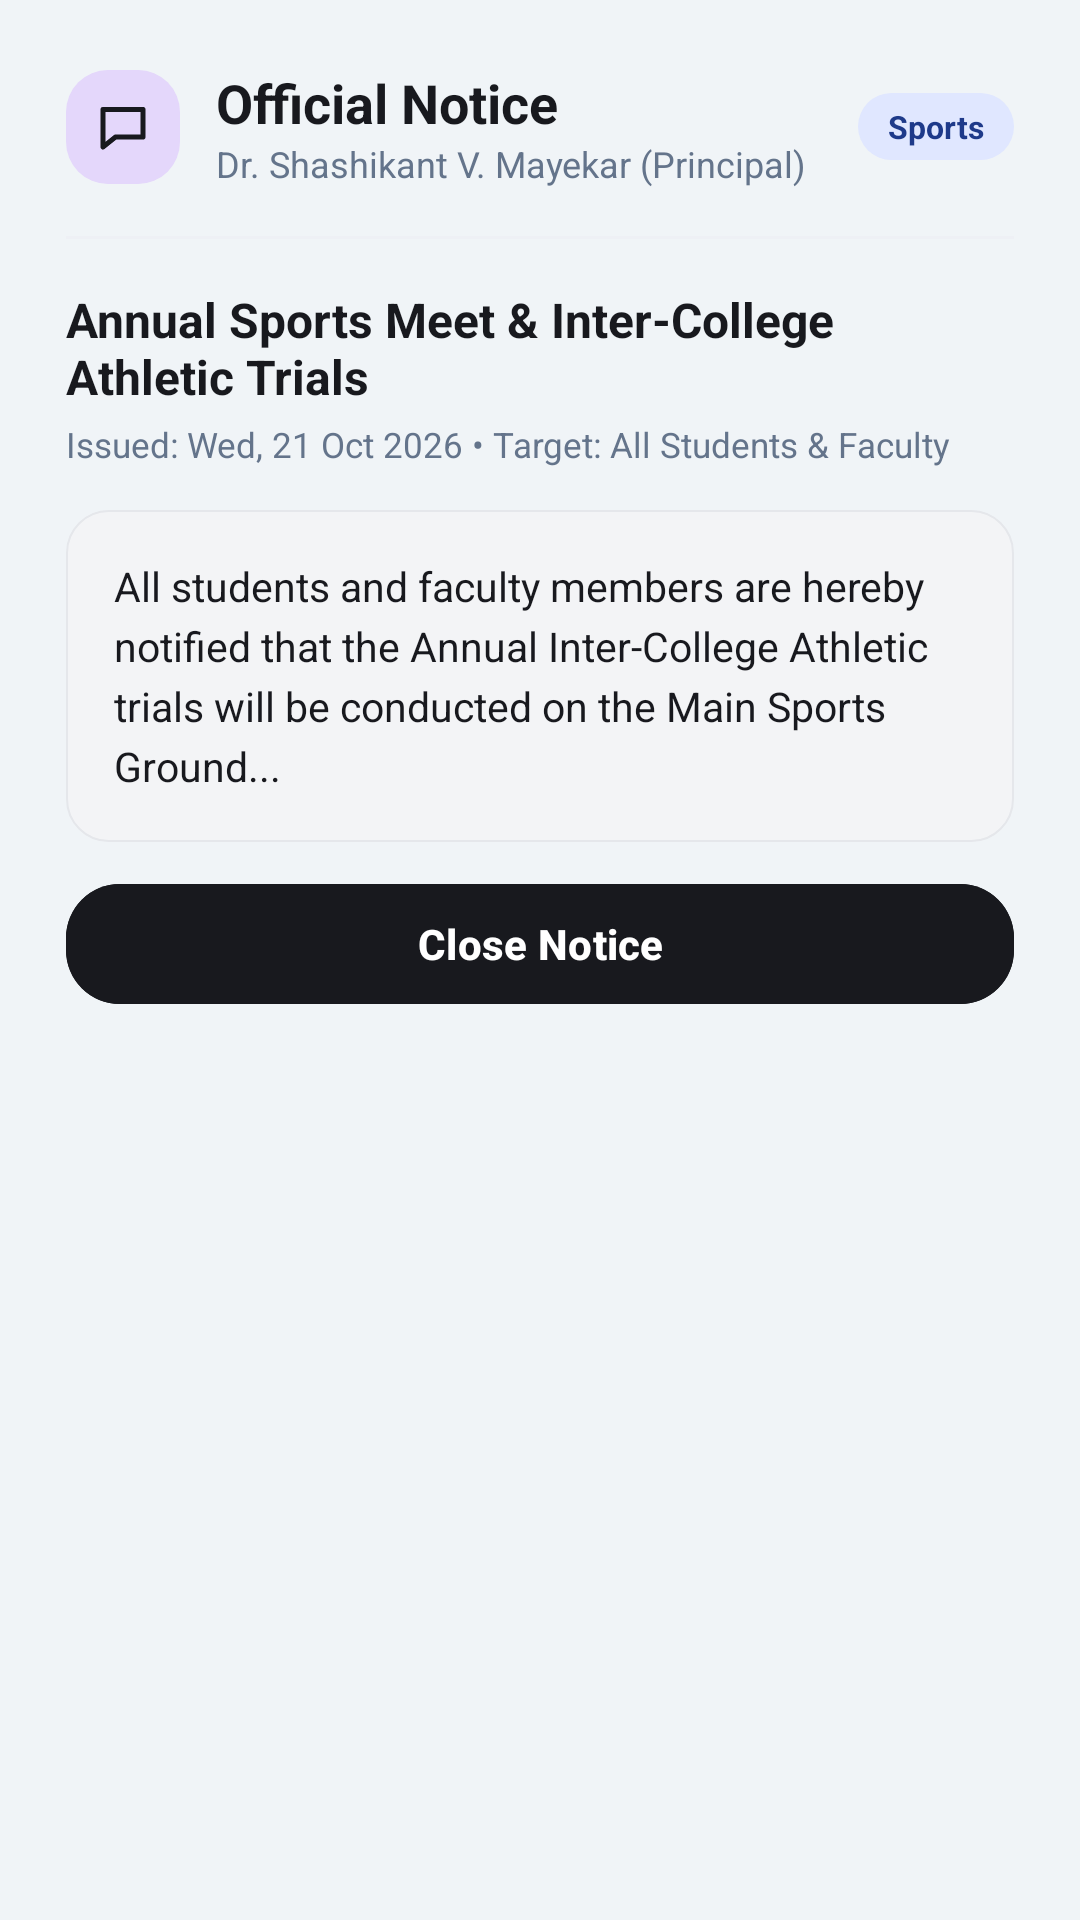

Screen size 1080px x 1920px. Icon name, then its center in pixels as (x,y):
chat: (123,127)
